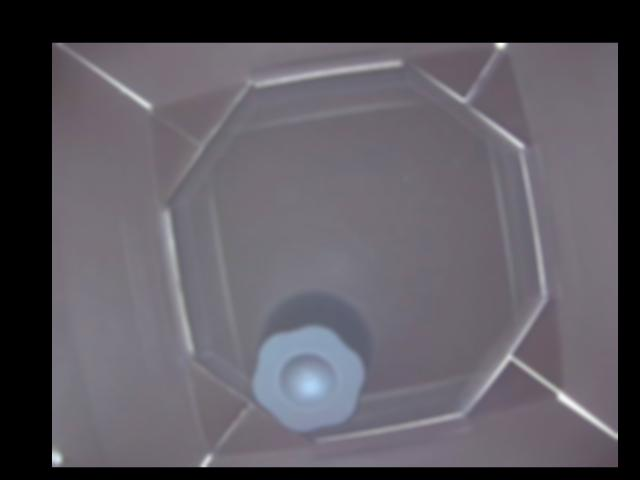Cup: (252, 289, 373, 435)
